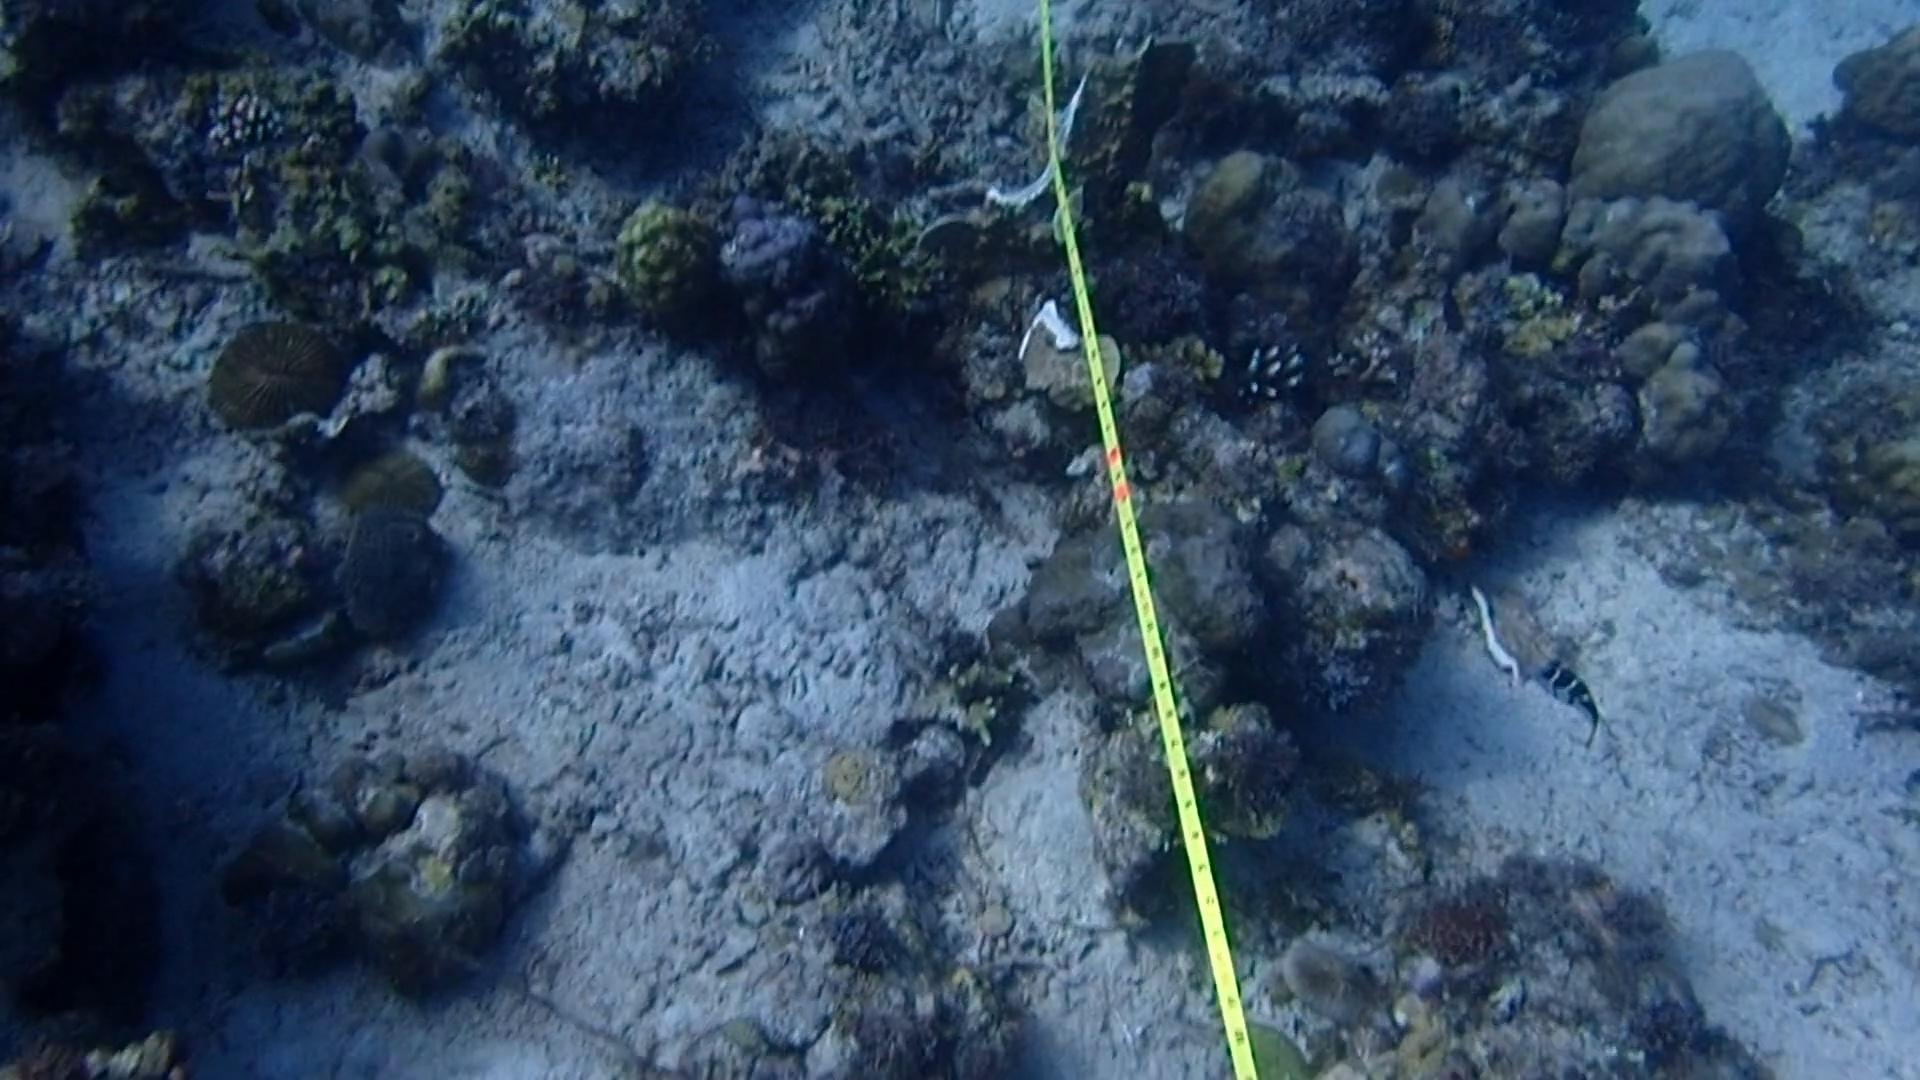Striped Fish: (1532, 647, 1614, 742)
